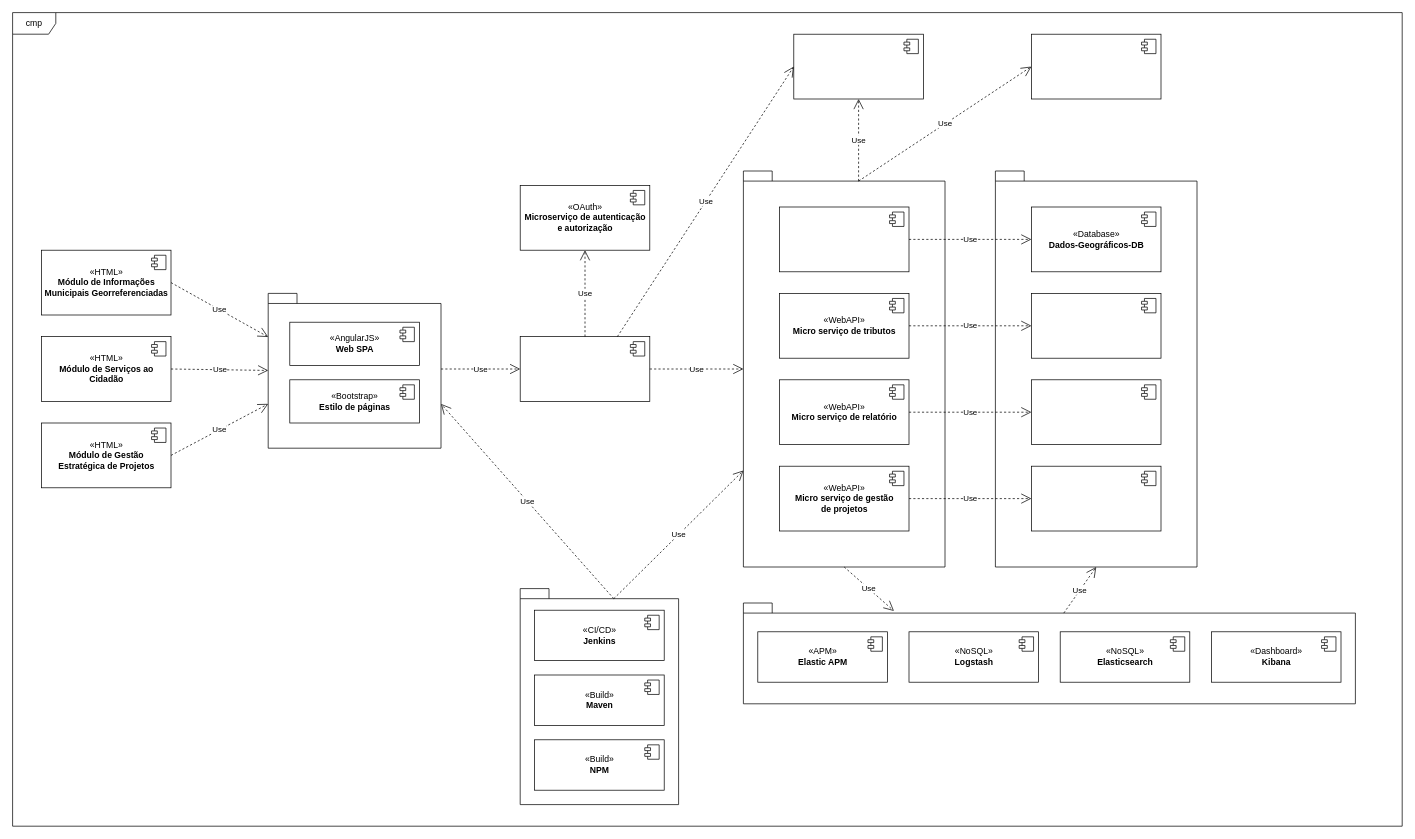
The diagram is 1415 pixels wide and 839 high, and some of its shapes have lost their labels. The centre of each missing label's shape, as x and y in pixels:
"«API Gateway» Microserviço Zuul" belongs at (x=584, y=368).
"«Database» Gestão-Projetos-DB" belongs at (x=1096, y=498).
"«Database» Relatório-DB" belongs at (x=1096, y=412).
"«Database» Tributos-DB" belongs at (x=1096, y=325).
"«Event Stream» Kafka" belongs at (x=1096, y=66).
"«Service Discovery» Eureka" belongs at (x=858, y=66).
"«WebAPI» Micro serviço de dados geográficos" belongs at (x=844, y=239).
